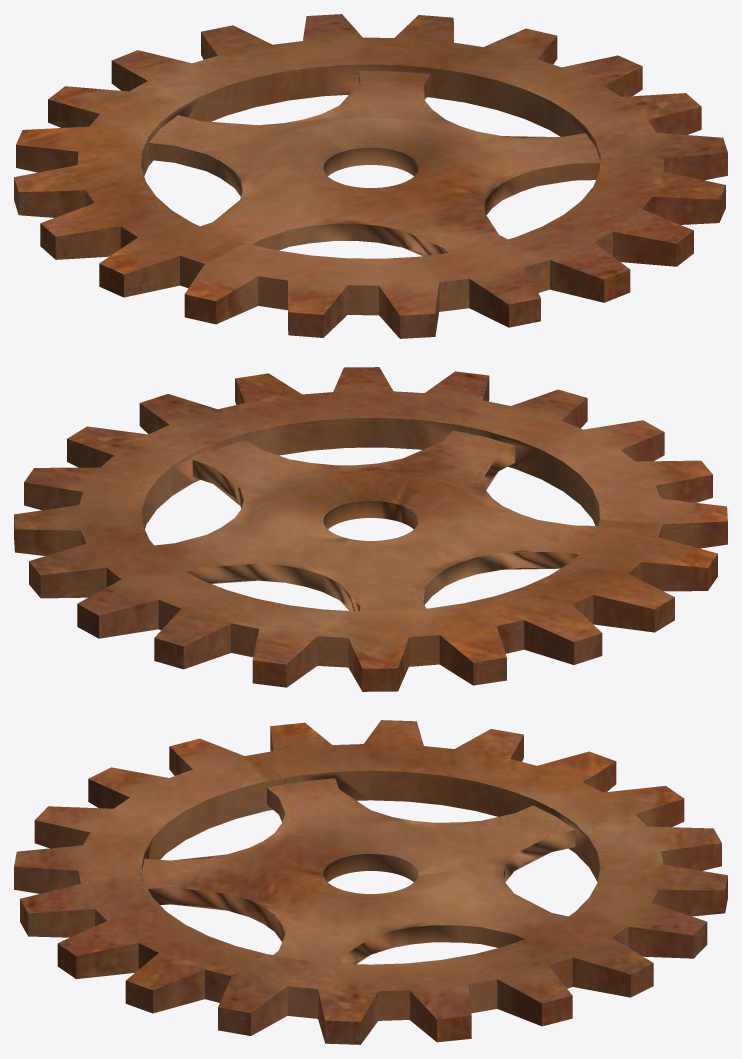
File: steampunk_gear_02.glb
The picture shows the model from 3 angles, top to bottom: view 1: azimuth 30°, elevation 25°; view 2: azimuth 150°, elevation 25°; view 3: azimuth 270°, elevation 25°; orthographic projection.
Parts seen in each view (by area): view 1: steampunk_gear_02; view 2: steampunk_gear_02; view 3: steampunk_gear_02.
Boxes of the visible parts, x1,y1,x2,y2 form: steampunk_gear_02: (14, 14, 727, 338); steampunk_gear_02: (14, 367, 727, 691); steampunk_gear_02: (14, 720, 727, 1044).
Size of what is drawn, in the model's own units: 0.1508 by 0.00871 by 0.1508.
Materials: 1 (1 with a texture image).
